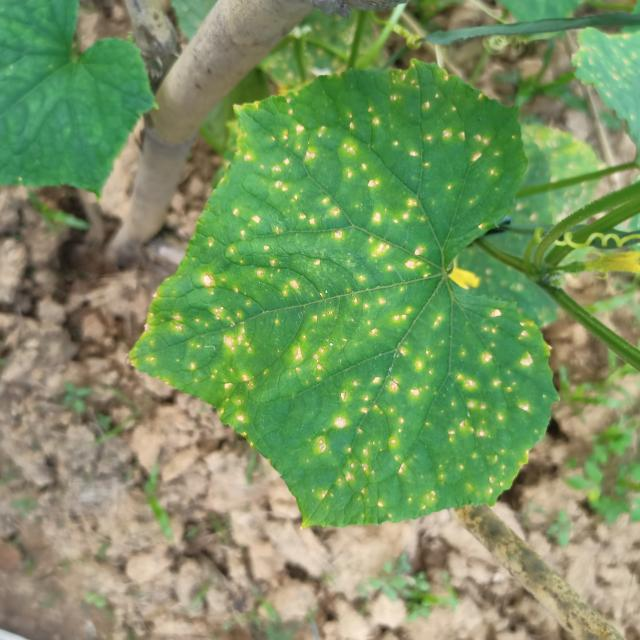disease_cucumber: (145, 84, 584, 516)
